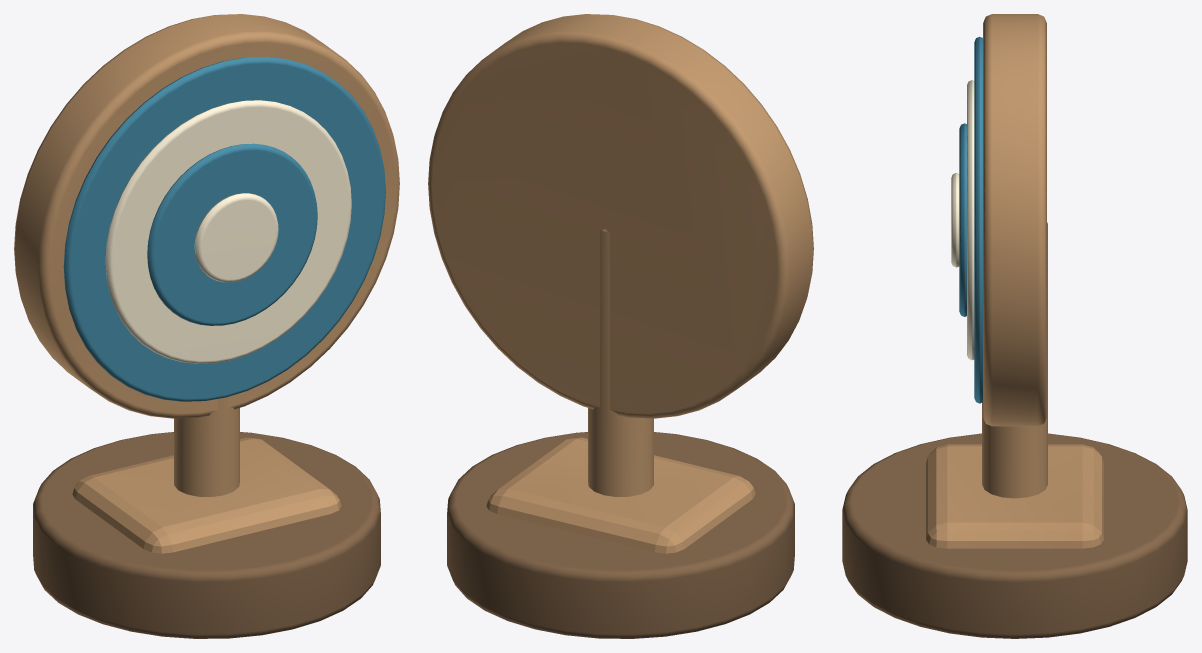
File: target-normal.glb
3 renders of one model, left to right at view 1: azimuth 30°, elevation 25°; view 2: azimuth 150°, elevation 25°; view 3: azimuth 270°, elevation 25°, orthographic.
Parts seen in each view (by area): view 1: Normal pedestal__runtime, Normal painted outer ring__runtime, Normal wooden disc__runtime, Normal cream ring__runtime, Normal inner ring__runtime, Normal pedestal inset__runtime, Normal bullseye__runtime, Normal upright__runtime; view 2: Normal wooden disc__runtime, Normal pedestal__runtime, Normal pedestal inset__runtime, Normal upright__runtime; view 3: Normal pedestal__runtime, Normal wooden disc__runtime, Normal pedestal inset__runtime, Normal upright__runtime, Normal painted outer ring__runtime, Normal cream ring__runtime, Normal inner ring__runtime, Normal bullseye__runtime.
Boxes of the visible parts, <box> form: Normal pedestal__runtime: <box>33,432,380,638</box>; Normal painted outer ring__runtime: <box>63,56,385,401</box>; Normal wooden disc__runtime: <box>14,14,399,418</box>; Normal cream ring__runtime: <box>105,100,351,363</box>; Normal inner ring__runtime: <box>147,143,317,325</box>; Normal pedestal inset__runtime: <box>72,437,341,553</box>; Normal bullseye__runtime: <box>194,193,278,282</box>; Normal upright__runtime: <box>174,397,239,496</box>; Normal wooden disc__runtime: <box>428,14,813,418</box>; Normal pedestal__runtime: <box>447,432,794,638</box>; Normal pedestal inset__runtime: <box>486,437,755,553</box>; Normal upright__runtime: <box>588,229,653,496</box>; Normal pedestal__runtime: <box>842,433,1187,638</box>; Normal wooden disc__runtime: <box>983,14,1046,426</box>; Normal pedestal inset__runtime: <box>926,444,1103,548</box>; Normal upright__runtime: <box>982,222,1047,498</box>; Normal painted outer ring__runtime: <box>974,36,982,403</box>; Normal cream ring__runtime: <box>967,80,974,360</box>; Normal inner ring__runtime: <box>959,123,966,316</box>; Normal bullseye__runtime: <box>951,173,959,267</box>.
Bounding box in the file's own units: 0.5792 × 0.8516 × 0.4844.
